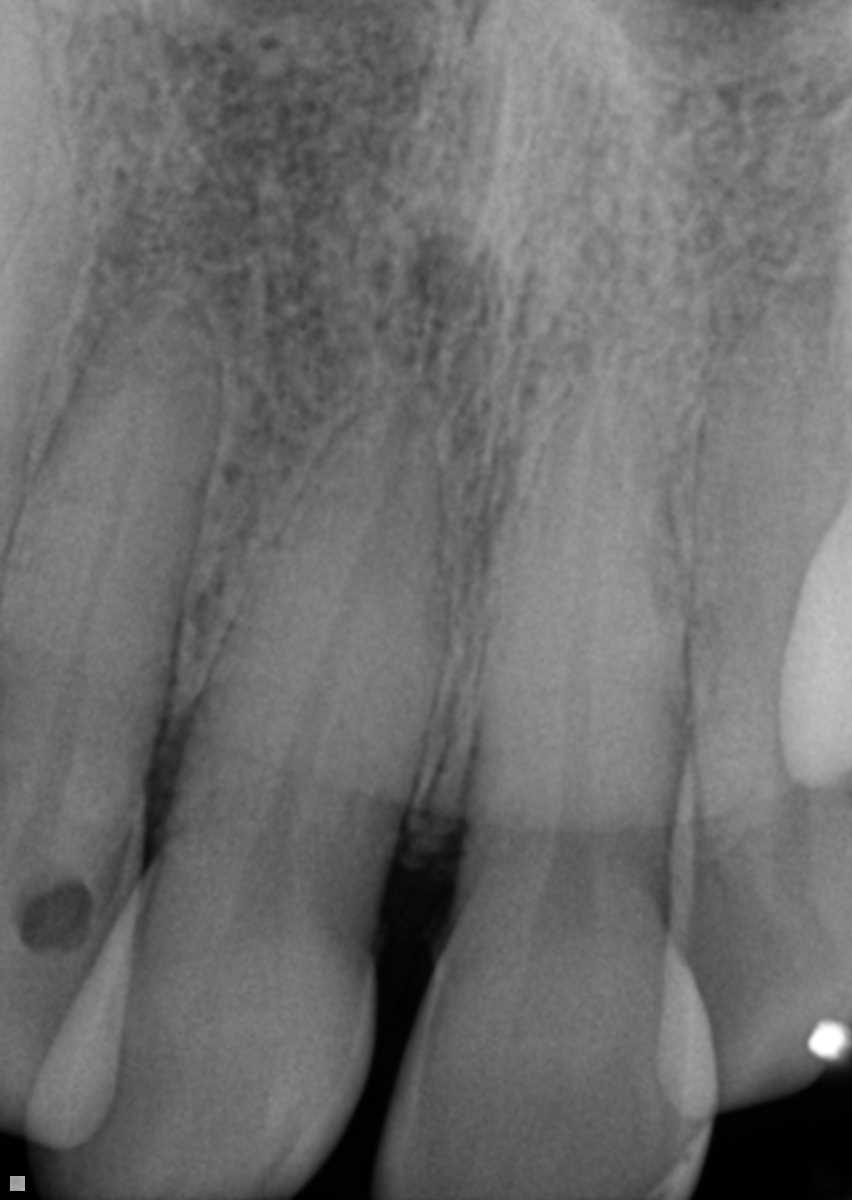Main Canal: (275, 447, 407, 796), (48, 347, 149, 757), (558, 407, 614, 838)
Main Root: (181, 404, 452, 827), (0, 283, 221, 768), (463, 381, 693, 846), (677, 270, 852, 826)
decay: (20, 877, 93, 952)
